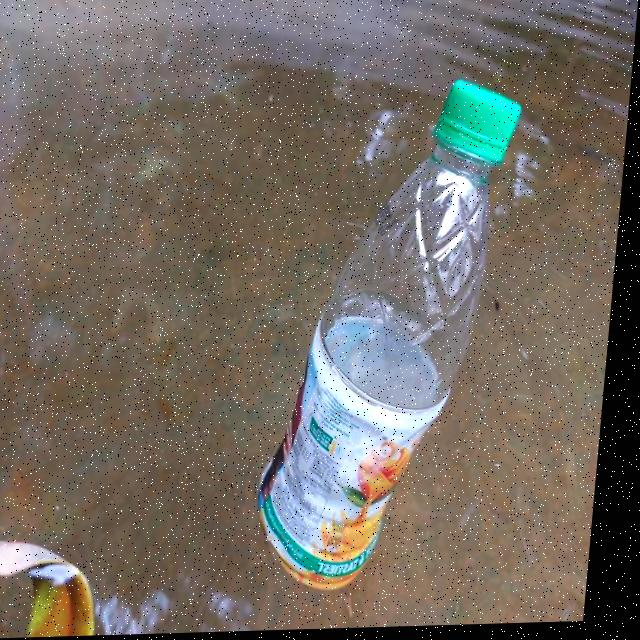leaf: (0, 515, 147, 640)
waterbottle: (235, 71, 525, 609)
